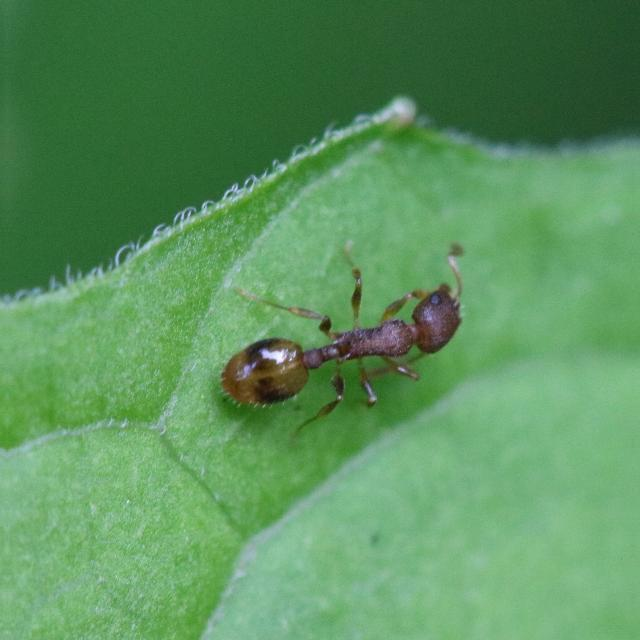Temnothorax: (203, 250, 479, 438)
